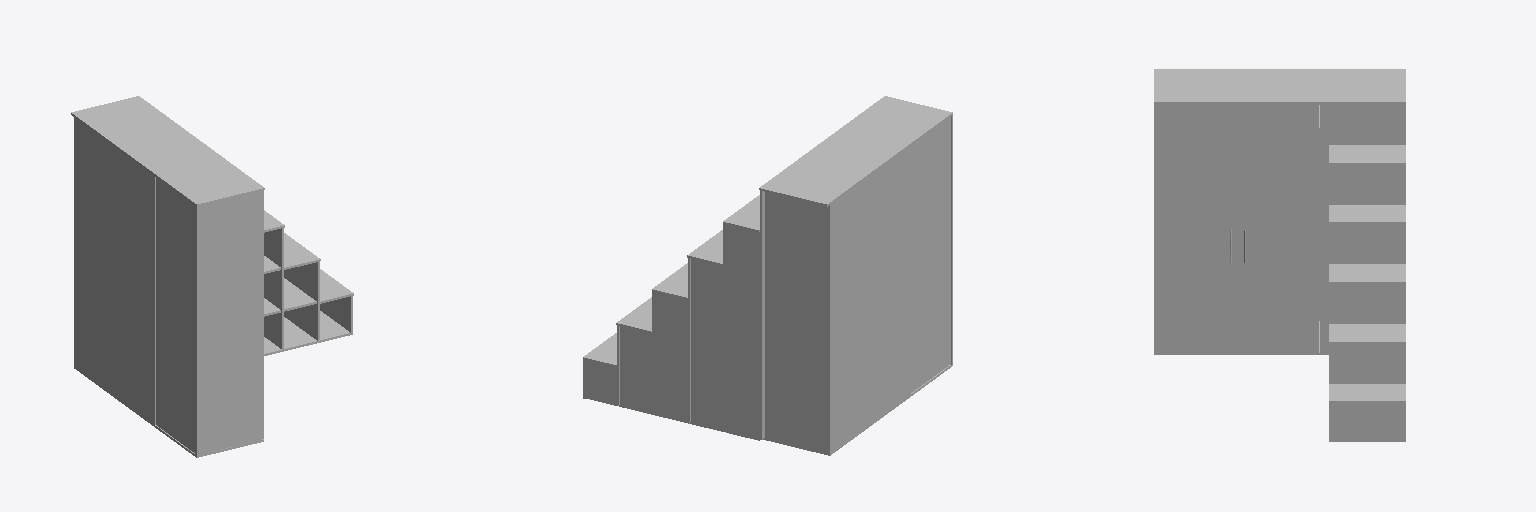
Rendered from Natural_Birch.obj.
3 renders of one model, left to right at view 1: azimuth 30°, elevation 25°; view 2: azimuth 150°, elevation 25°; view 3: azimuth 270°, elevation 25°, orthographic.
Parts seen in each view (by area): view 1: Natural_Birch; view 2: Natural_Birch; view 3: Natural_Birch.
Part boxes in pixels (bbox=[...]): Natural_Birch: bbox=[71, 96, 353, 457]; Natural_Birch: bbox=[583, 96, 952, 455]; Natural_Birch: bbox=[1154, 69, 1405, 441].
Size of the model in its own units: 2018 by 2008 by 1801.